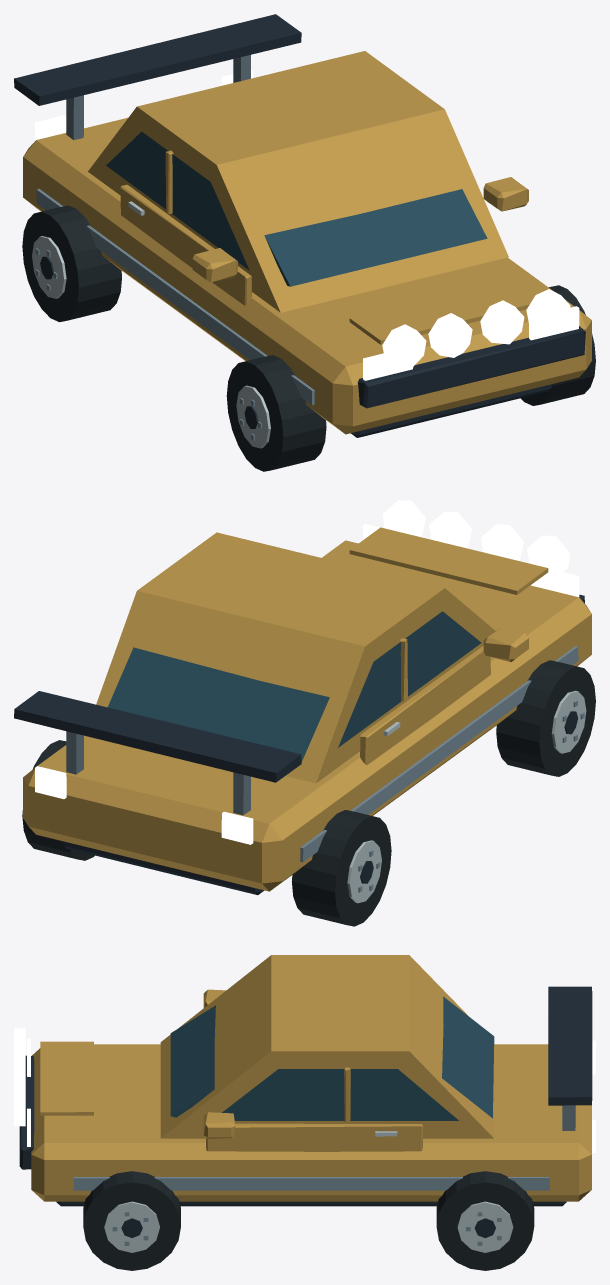
Rendered from road-rally.lod1.glb.
The picture shows the model from 3 angles, top to bottom: view 1: azimuth 30°, elevation 25°; view 2: azimuth 150°, elevation 25°; view 3: azimuth 270°, elevation 25°; orthographic projection. The views are drawn at different scales.
Visible parts, largest first — view 1: road-rally__body, road-rally__door_-1, road-rally__wheel_steer_0_l, road-rally__wheel_steer_1_l, road-rally__wheel_steer_0_r; view 2: road-rally__body, road-rally__door_-1, road-rally__wheel_steer_0_l, road-rally__wheel_steer_1_l, road-rally__wheel_steer_1_r; view 3: road-rally__body, road-rally__door_1, road-rally__wheel_steer_1_r, road-rally__wheel_steer_0_r.
Boxes of the visible parts, <box> form: road-rally__body: <box>14,14,591,437</box>; road-rally__door_-1: <box>106,131,251,305</box>; road-rally__wheel_steer_0_l: <box>226,355,326,471</box>; road-rally__wheel_steer_1_l: <box>22,205,121,322</box>; road-rally__wheel_steer_0_r: <box>521,285,595,405</box>; road-rally__body: <box>14,500,591,895</box>; road-rally__door_-1: <box>338,611,490,764</box>; road-rally__wheel_steer_0_l: <box>496,660,595,776</box>; road-rally__wheel_steer_1_l: <box>291,810,391,926</box>; road-rally__wheel_steer_1_r: <box>22,740,94,860</box>; road-rally__body: <box>14,955,595,1206</box>; road-rally__door_1: <box>206,1067,458,1151</box>; road-rally__wheel_steer_1_r: <box>436,1171,534,1270</box>; road-rally__wheel_steer_0_r: <box>83,1171,180,1270</box>.
Size of the model in its own units: 2.25 by 1.55 by 4.05.
